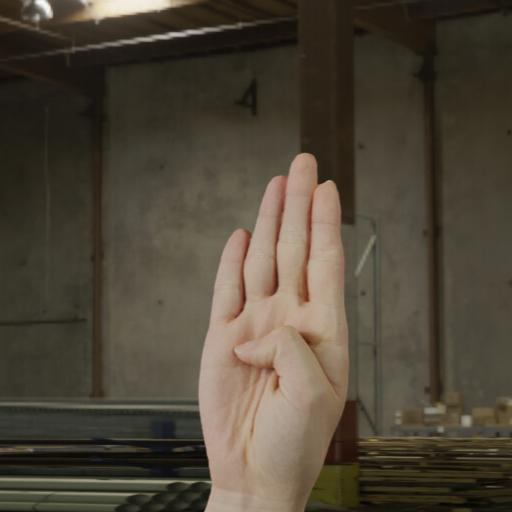B: (183, 134, 365, 475)
